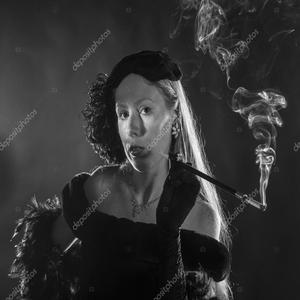cigarette: (235, 187, 269, 213)
